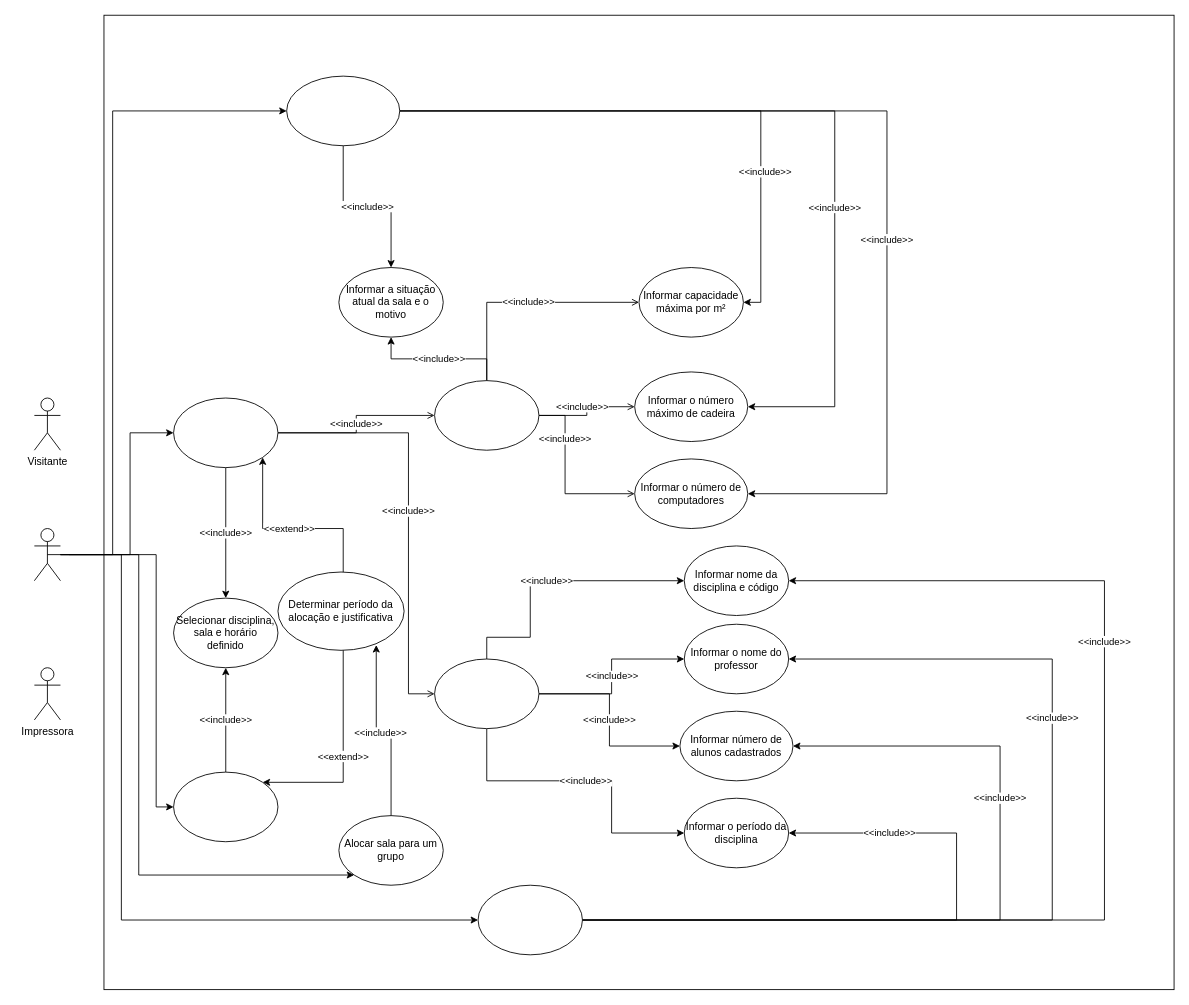
Some shapes in this 1189 by 1005 pixel diagram are drawn without their labels. The shapes that lost their labels are listed below. From the top down, each one's centre as x and y in pixels, then its label:
At (343,110): "Modificar informações da sala".
At (225,432): "Alocar Sala com Disciplina".
At (486,415): "Cadastrar sala".
At (46,554): "Administrador".
At (486,693): "Cadastrar Disciplina".
At (225,806): "Modificar alocação sala por disciplina".
At (529,919): "Modificar informações da disciplina".
